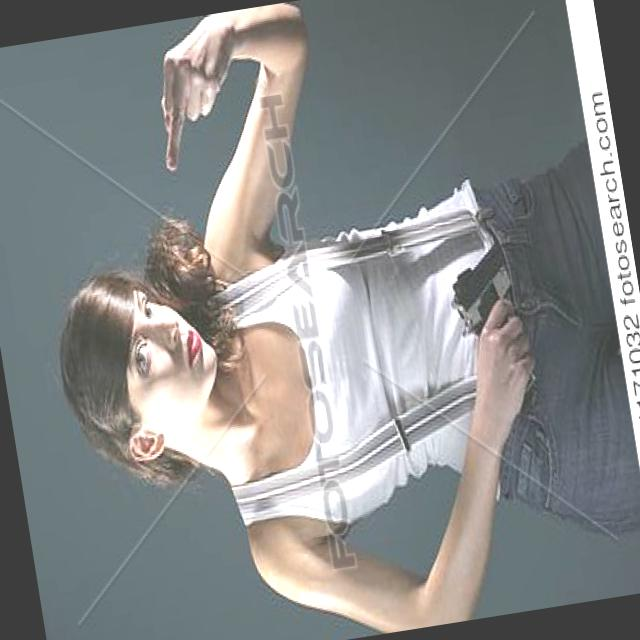handgun: (438, 234, 546, 367)
